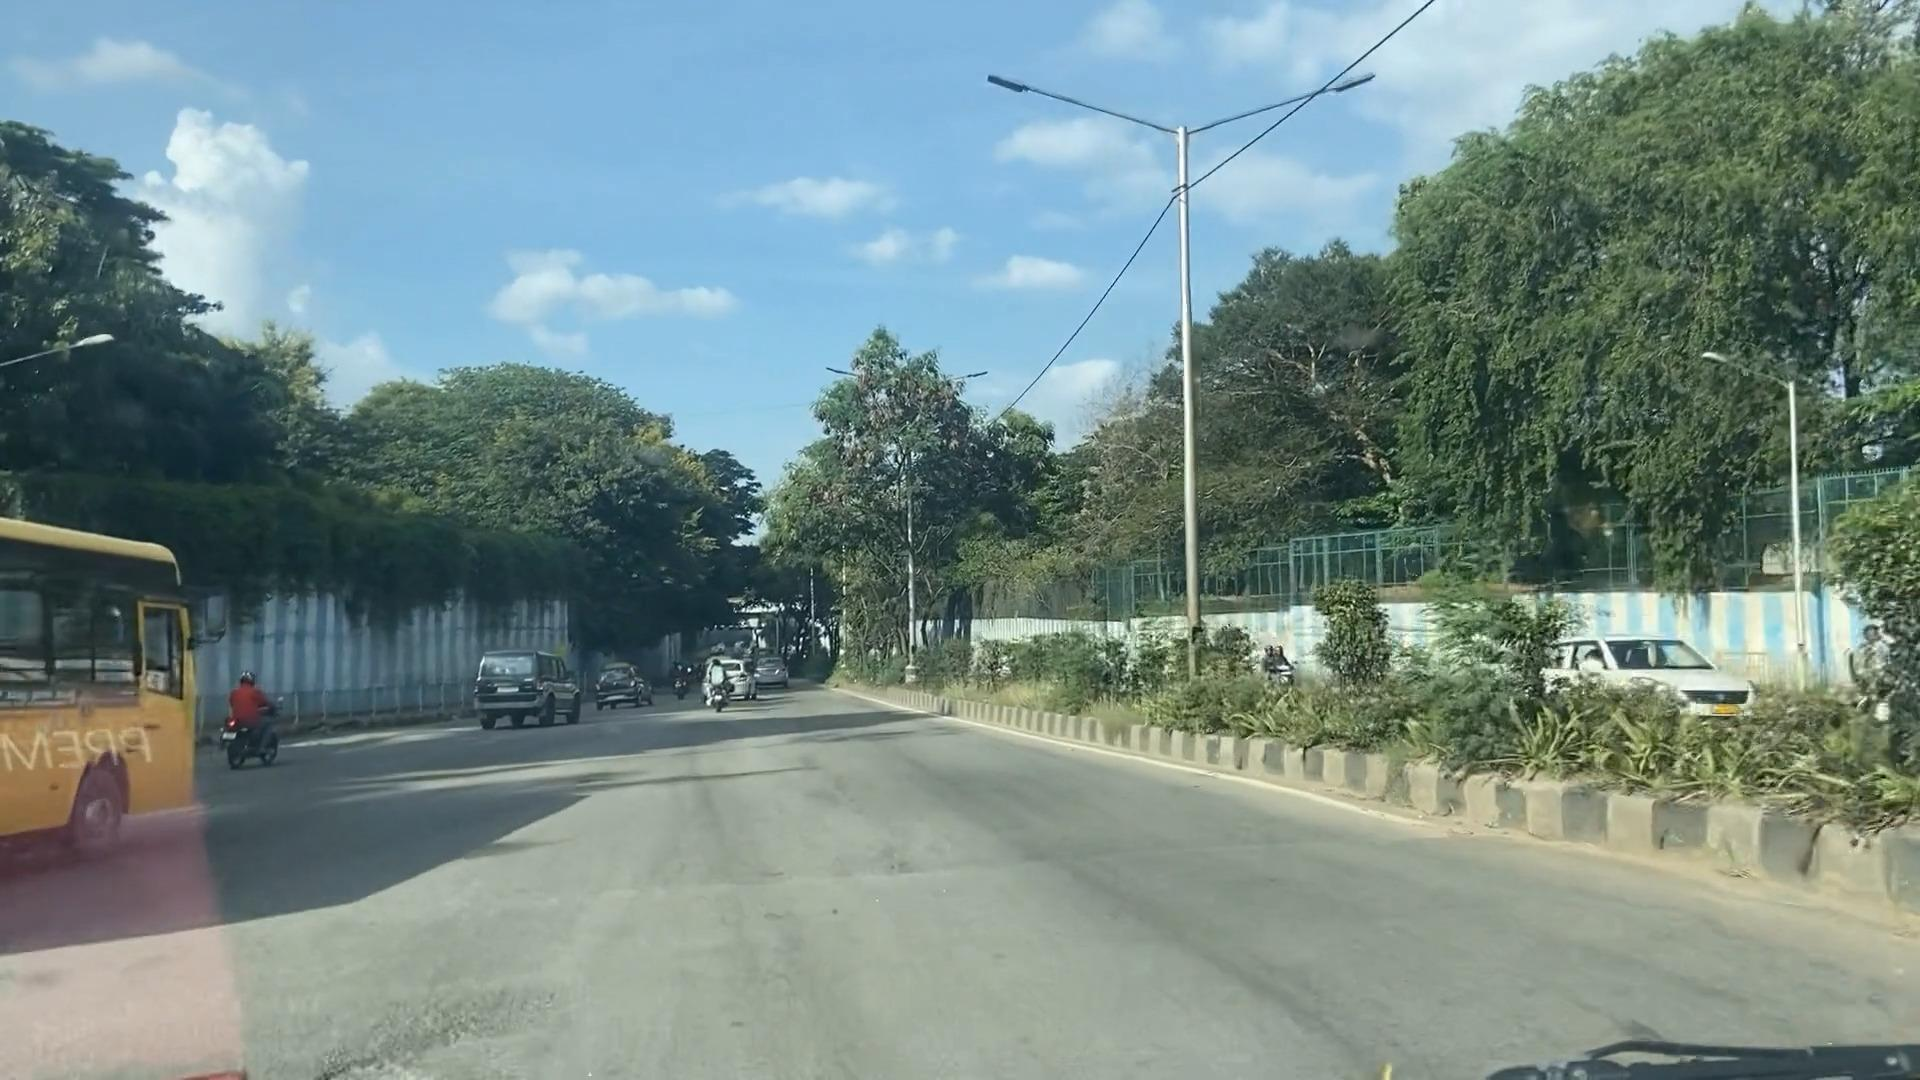RoadDamages: (298, 988, 535, 1080)
